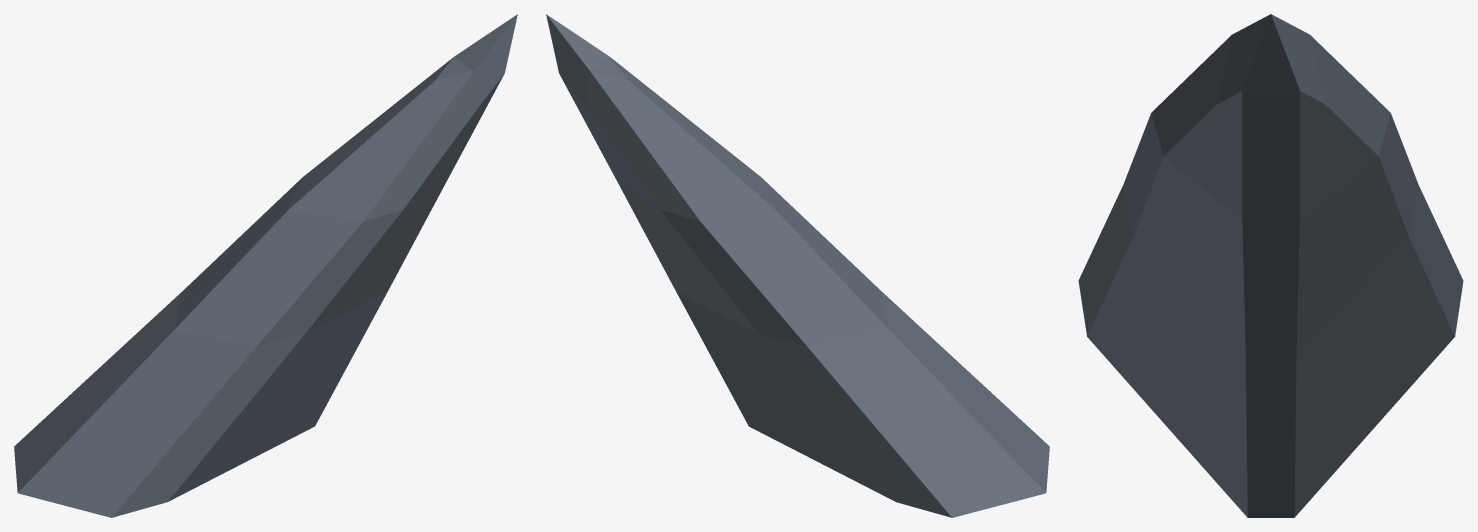
File: Rock_Sharp_l_04 2.fbx
The picture shows the model from 3 angles, left to right: view 1: azimuth 30°, elevation 25°; view 2: azimuth 150°, elevation 25°; view 3: azimuth 270°, elevation 25°; orthographic projection. The views are drawn at different scales.
Parts seen in each view (by area): view 1: Rock_Sharp_l_04; view 2: Rock_Sharp_l_04; view 3: Rock_Sharp_l_04.
Part boxes in pixels (bbox=[...]): Rock_Sharp_l_04: bbox=[14, 14, 517, 517]; Rock_Sharp_l_04: bbox=[546, 14, 1049, 517]; Rock_Sharp_l_04: bbox=[1078, 14, 1463, 517].
Size of the model in its own units: 669 by 457 by 226.
